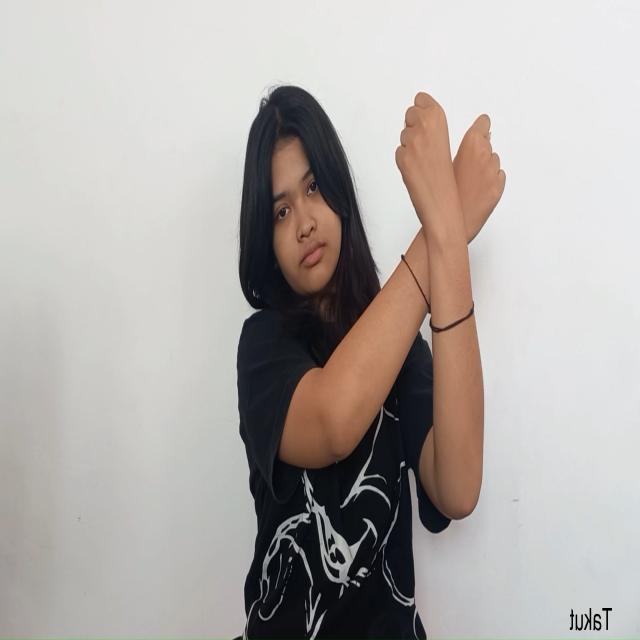Takut -BISINDO-: (393, 89, 508, 271)
